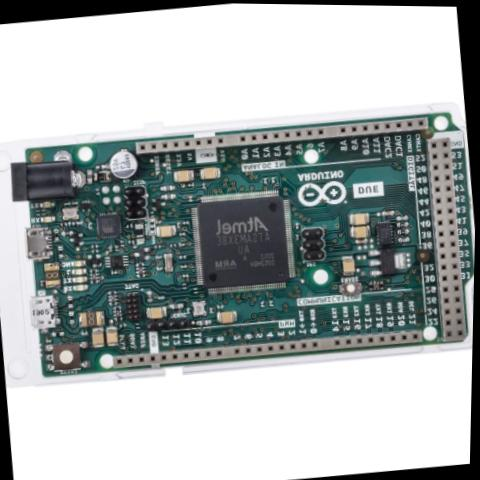Arduino-Due: (0, 93, 478, 394)
